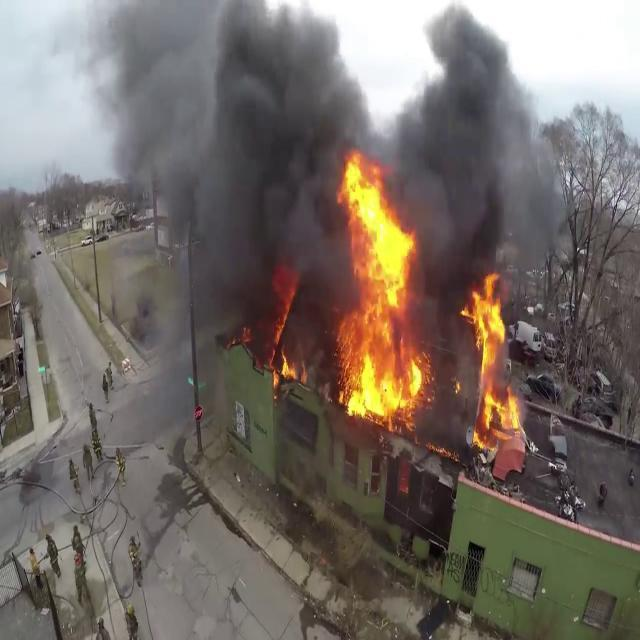Fire: (331, 151, 432, 429), (461, 270, 524, 440), (267, 268, 300, 391)
Smoke: (90, 0, 366, 319), (387, 5, 567, 292)
